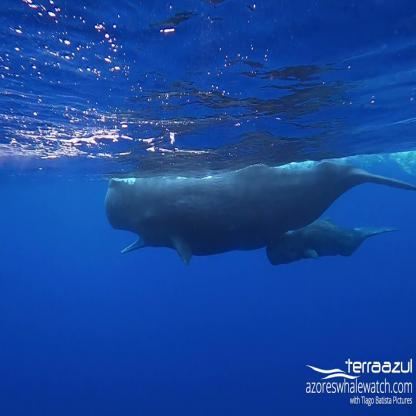sperm_whale: (75, 117, 416, 300)
